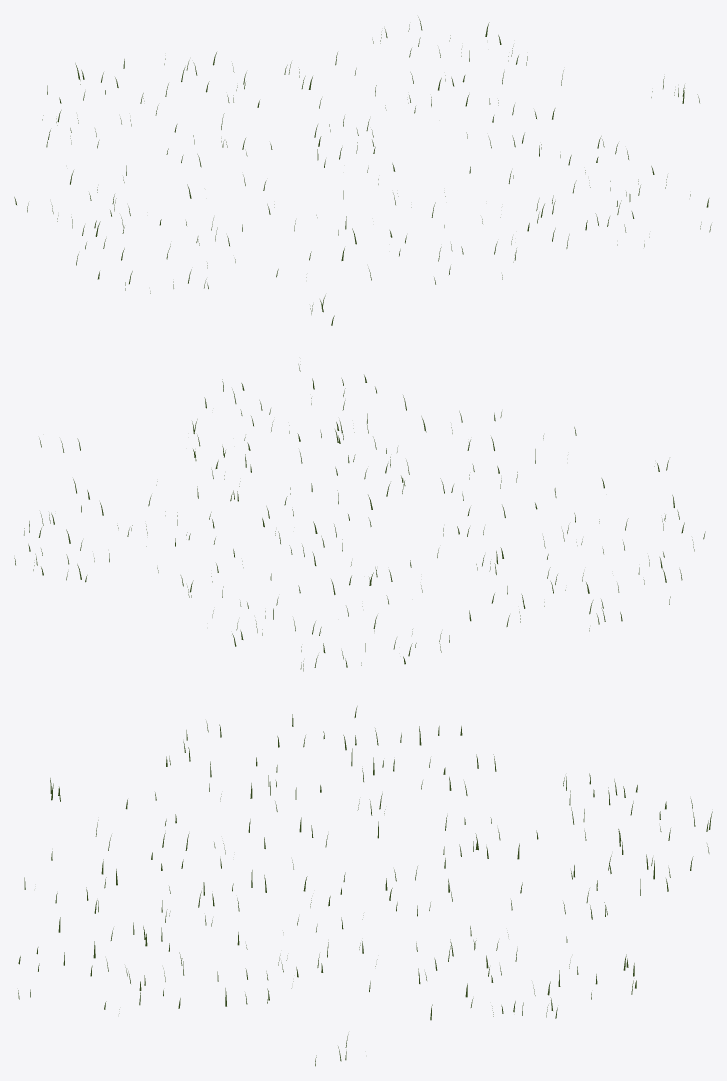
The picture shows the model from 3 angles, top to bottom: view 1: azimuth 30°, elevation 25°; view 2: azimuth 150°, elevation 25°; view 3: azimuth 270°, elevation 25°; orthographic projection. The views are drawn at different scales.
Visible parts, largest first — view 1: GrassPatch; view 2: GrassPatch; view 3: GrassPatch.
Boxes of the visible parts, <box> form: GrassPatch: <box>14,17,711,325</box>; GrassPatch: <box>14,364,705,671</box>; GrassPatch: <box>18,706,712,1066</box>.
Size of the model in its own units: 18.98 by 0.4903 by 16.05.
